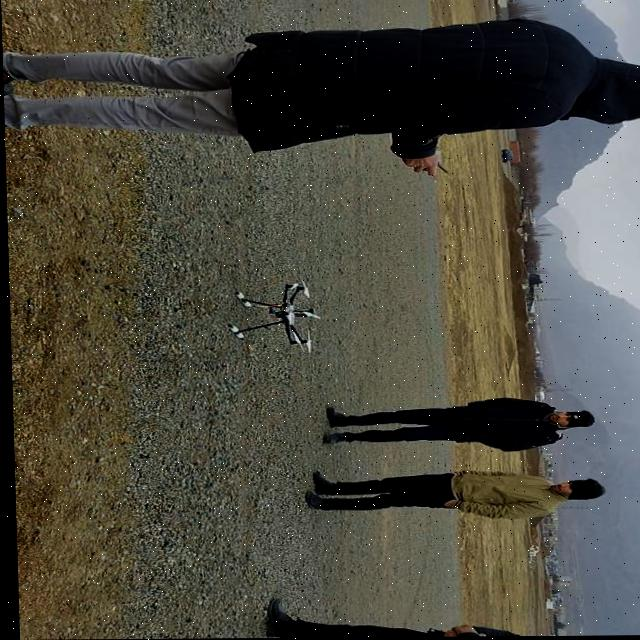drone: (222, 278, 323, 355)
